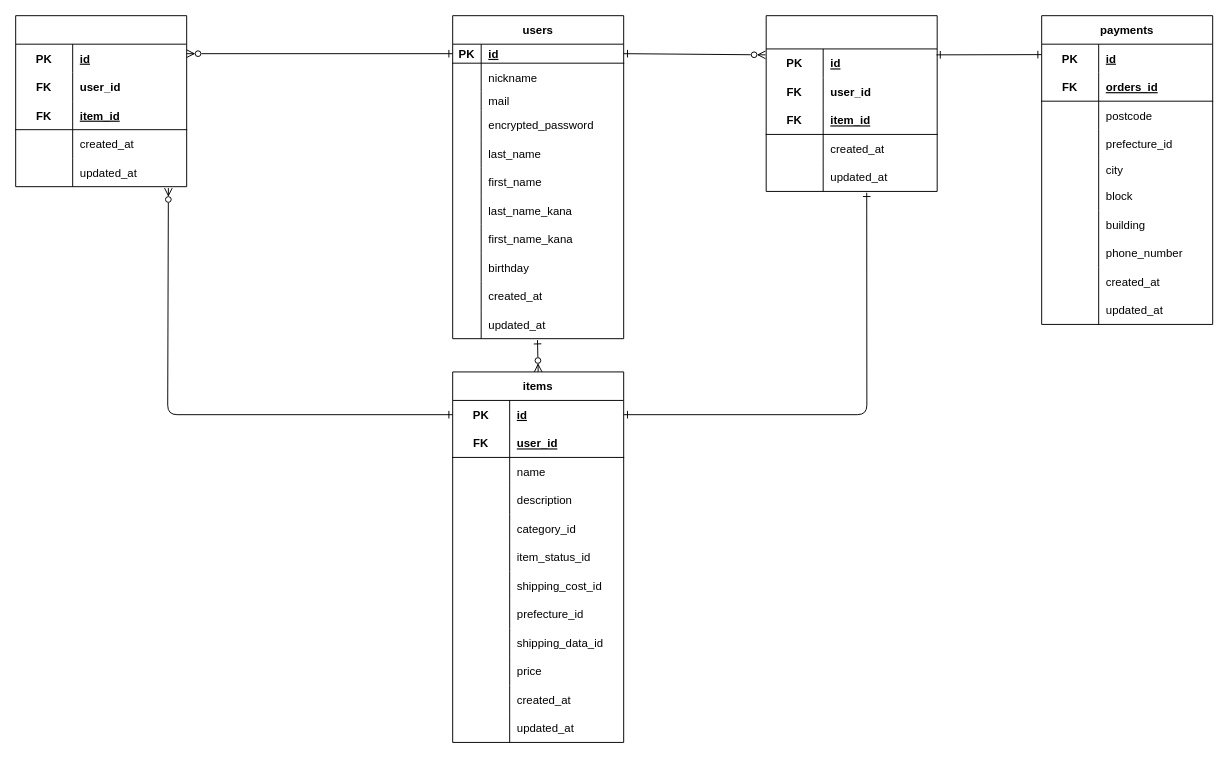
The diagram is 1228 pixels wide and 758 high, and some of its shapes have lost their labels. The box of each missing label's shape, as (x1, y1, x2, y2) in pixels:
comments: (15, 15, 187, 187)
orders: (765, 15, 937, 191)
